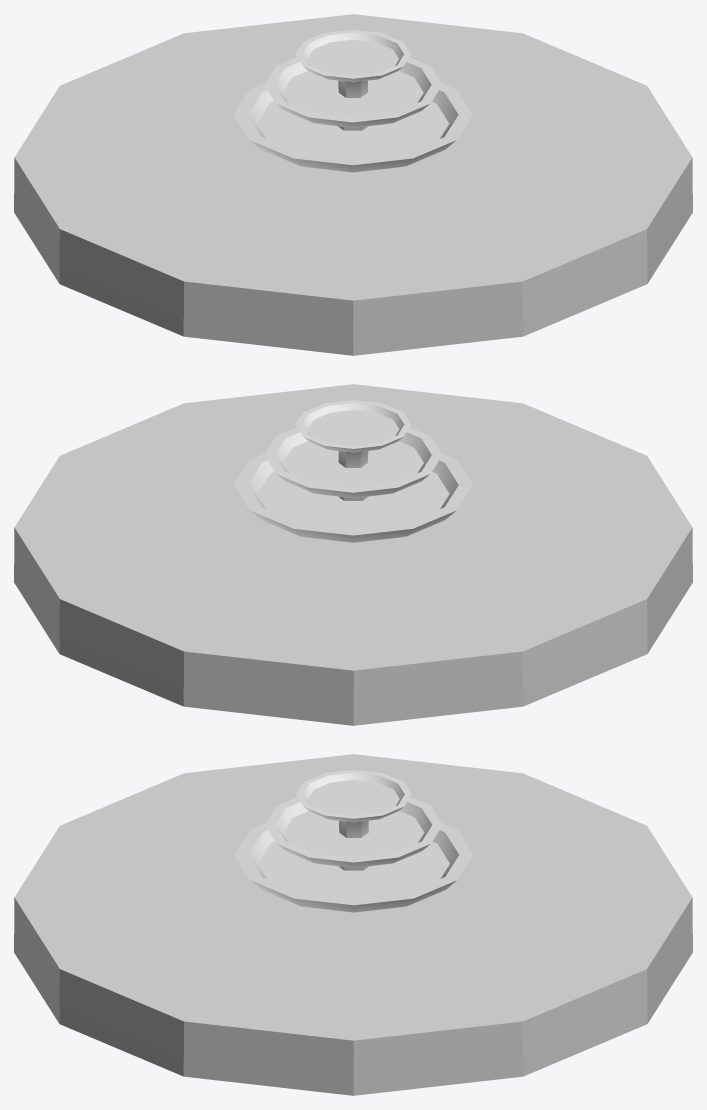
File: PancuranAir.fbx
3 renders of one model, top to bottom at view 1: azimuth 30°, elevation 25°; view 2: azimuth 150°, elevation 25°; view 3: azimuth 270°, elevation 25°, orthographic.
Visible parts, largest first — view 1: Colider, Pancuran2_LOD0, Air1, Air2, Air3, Pancuran1_LOD0; view 2: Colider, Pancuran2_LOD0, Air1, Air2, Air3, Pancuran1_LOD0; view 3: Colider, Pancuran2_LOD0, Air1, Air2, Air3, Pancuran1_LOD0.
Boxes of the visible parts, x1,y1,x2,y2 form: Colider: (14, 14, 692, 355); Pancuran2_LOD0: (233, 29, 472, 172); Air1: (257, 101, 449, 159); Air2: (283, 71, 423, 117); Air3: (307, 39, 398, 75); Pancuran1_LOD0: (338, 80, 367, 130); Colider: (14, 384, 692, 725); Pancuran2_LOD0: (234, 400, 472, 542); Air1: (257, 472, 449, 529); Air2: (283, 441, 423, 488); Air3: (307, 410, 398, 445); Pancuran1_LOD0: (338, 451, 368, 500); Colider: (14, 754, 692, 1095); Pancuran2_LOD0: (234, 770, 473, 912); Air1: (258, 841, 449, 899); Air2: (283, 811, 424, 857); Air3: (308, 780, 399, 815); Pancuran1_LOD0: (339, 820, 368, 870).
Size of what is drawn, in the model's own units: 1657 by 426 by 1657.
